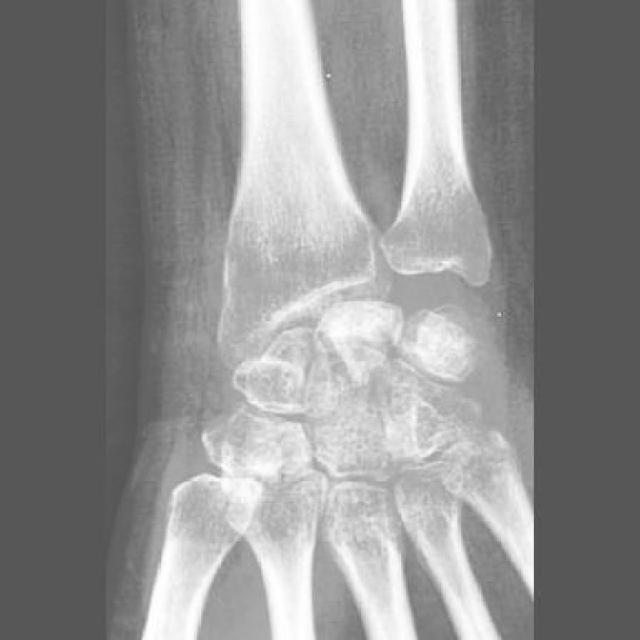Fracture: (319, 302, 407, 364)
